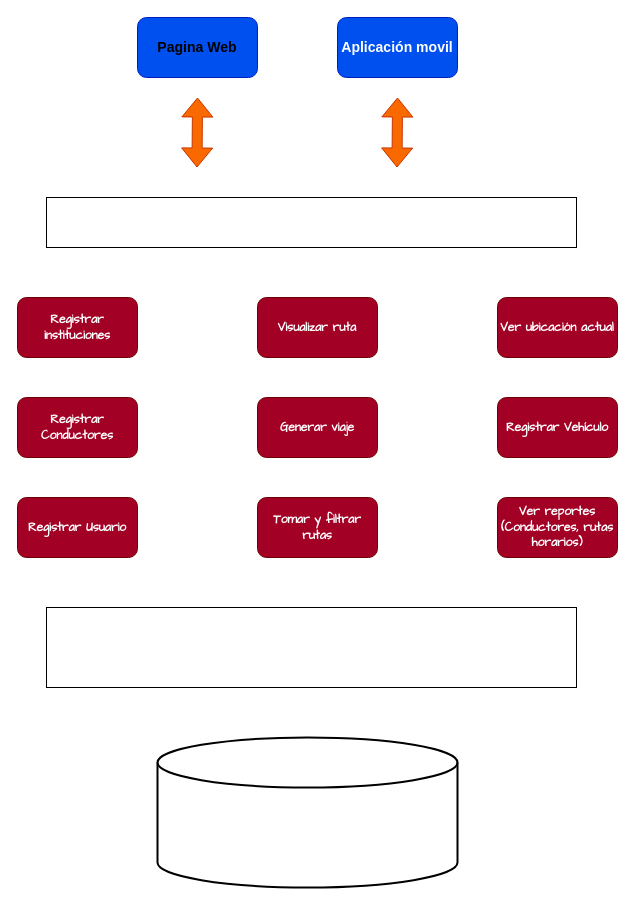
The diagram is 635 pixels wide and 906 high, and some of its shapes have lost their labels. Here are the shapes that lost their labels. From the top down, the centre of each, then its label:
At (311,222): "Manejo de entradas de los usuarios Creada con Html y Css".
At (311,647): "Actualización de datos mediante Supabase, JavaScript y React".
At (307,812): "Base de datos Creada en SQL".
